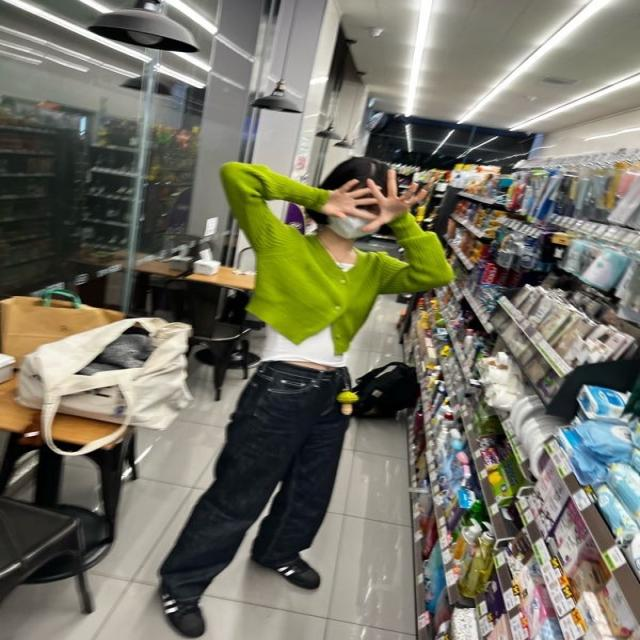cardigan: (220, 159, 454, 358)
denimpants: (158, 360, 358, 605)
